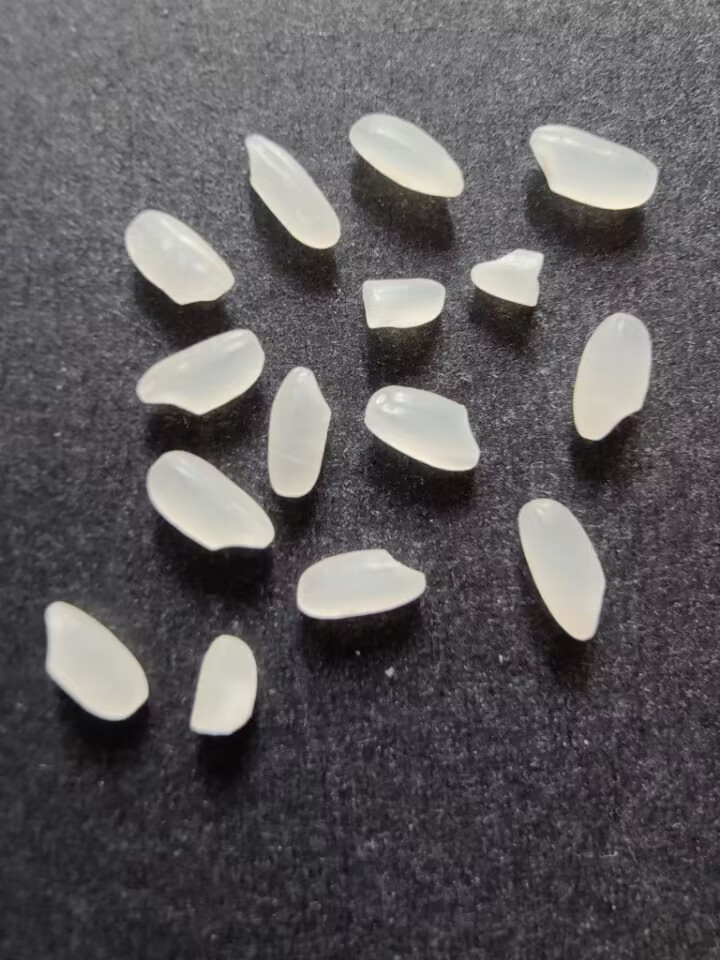broken: (187, 631, 260, 739), (466, 244, 550, 311), (356, 276, 448, 331)
rice: (37, 597, 157, 729), (141, 450, 278, 560), (517, 499, 611, 644), (238, 130, 345, 255), (136, 324, 268, 418), (359, 382, 483, 479), (525, 125, 661, 212), (571, 308, 657, 445), (122, 209, 237, 307), (348, 111, 466, 202), (292, 546, 429, 622), (263, 360, 333, 499)
